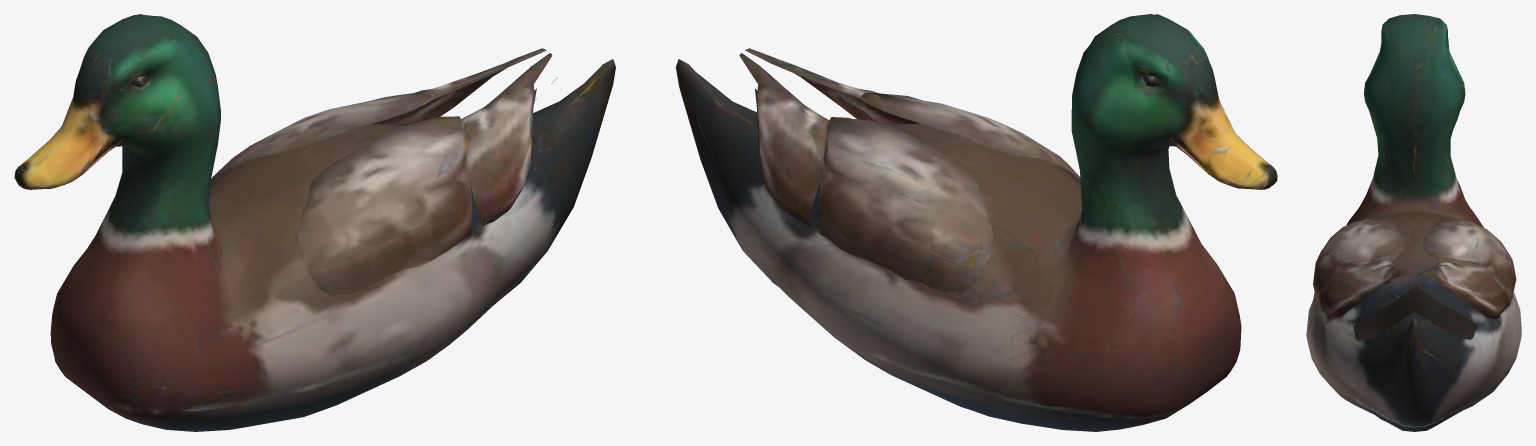
File: pato_lago.glb
3 renders of one model, left to right at view 1: azimuth 30°, elevation 25°; view 2: azimuth 150°, elevation 25°; view 3: azimuth 270°, elevation 25°, orthographic. The views are drawn at different scales.
Visible parts, largest first — view 1: Pato do lago; view 2: Pato do lago; view 3: Pato do lago.
Boxes of the visible parts, left/top/right/bottom form: Pato do lago: left=14, top=14, right=615, bottom=431; Pato do lago: left=675, top=14, right=1277, bottom=431; Pato do lago: left=1306, top=14, right=1521, bottom=431.
Bounding box in the file's own units: 0.8008 × 0.5176 × 0.3145.
1 material, 1 textured.
